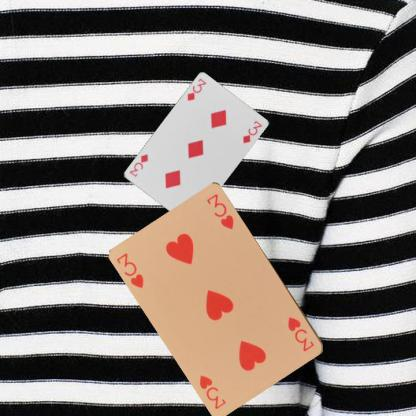3d: (184, 76, 208, 102)
3h: (113, 250, 146, 290), (285, 314, 316, 353)
